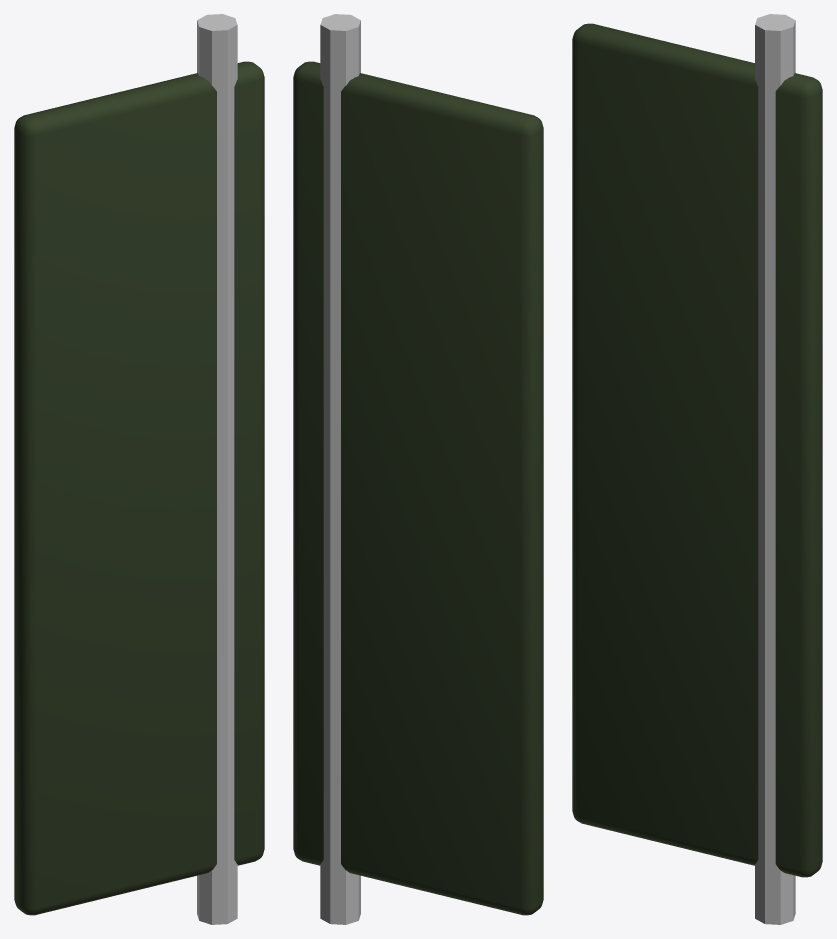
File: rudder_right.glb
3 views of the same model, side by side, from view 1: azimuth 30°, elevation 25°; view 2: azimuth 150°, elevation 25°; view 3: azimuth 330°, elevation 25° (orthographic).
Parts seen in each view (by area): view 1: rudder_right; view 2: rudder_right; view 3: rudder_right.
Part boxes in pixels (left/top/right/bottom): rudder_right: left=14, top=14, right=264, bottom=924; rudder_right: left=293, top=14, right=543, bottom=924; rudder_right: left=572, top=14, right=822, bottom=924.
Bounding box in the file's own units: 0.067 × 0.236 × 0.01.
